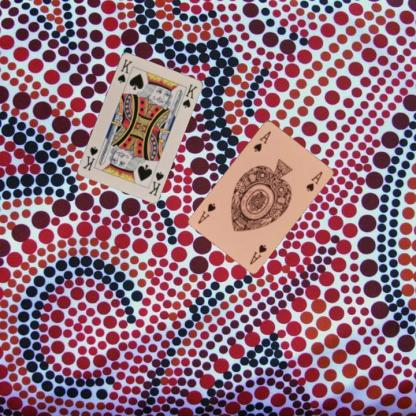As: (251, 128, 272, 153), (247, 241, 268, 266)
Ks: (115, 56, 134, 84), (146, 169, 165, 197)
